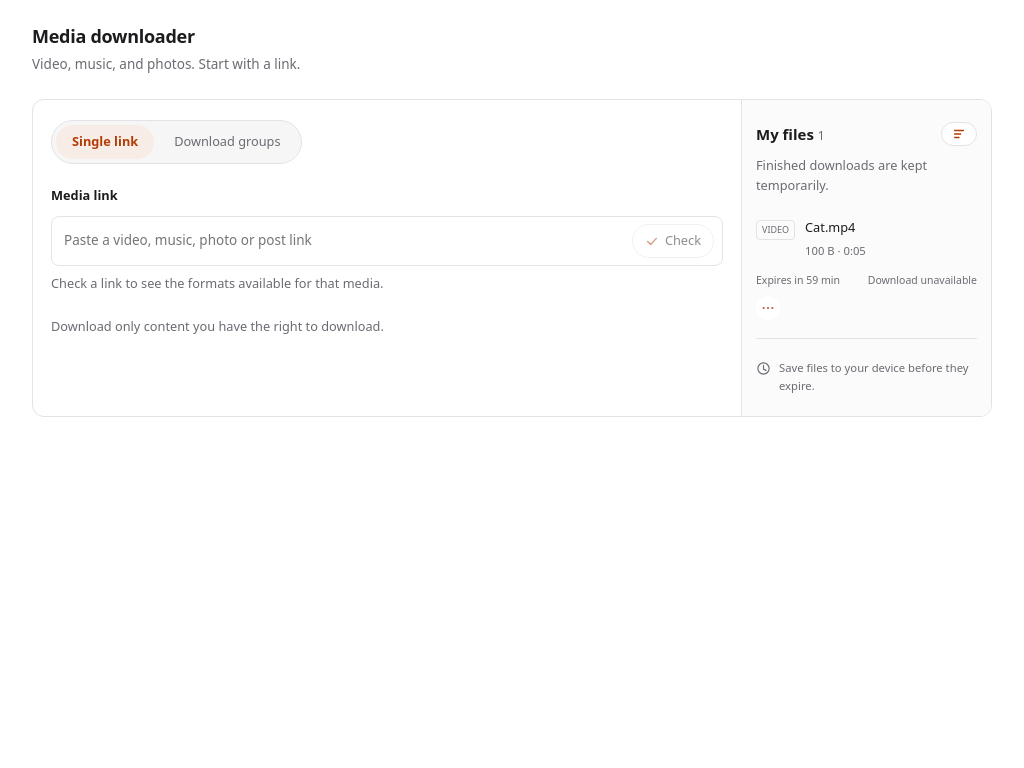
Test: MediaDownloaderView › ports probe details, blocked presets, queued downloads and watcher cleanup
Type "https://example.com/cat" into the field with placeholder "Paste a video, music, photo or post link" at (342, 241), box [64, 226, 620, 255]
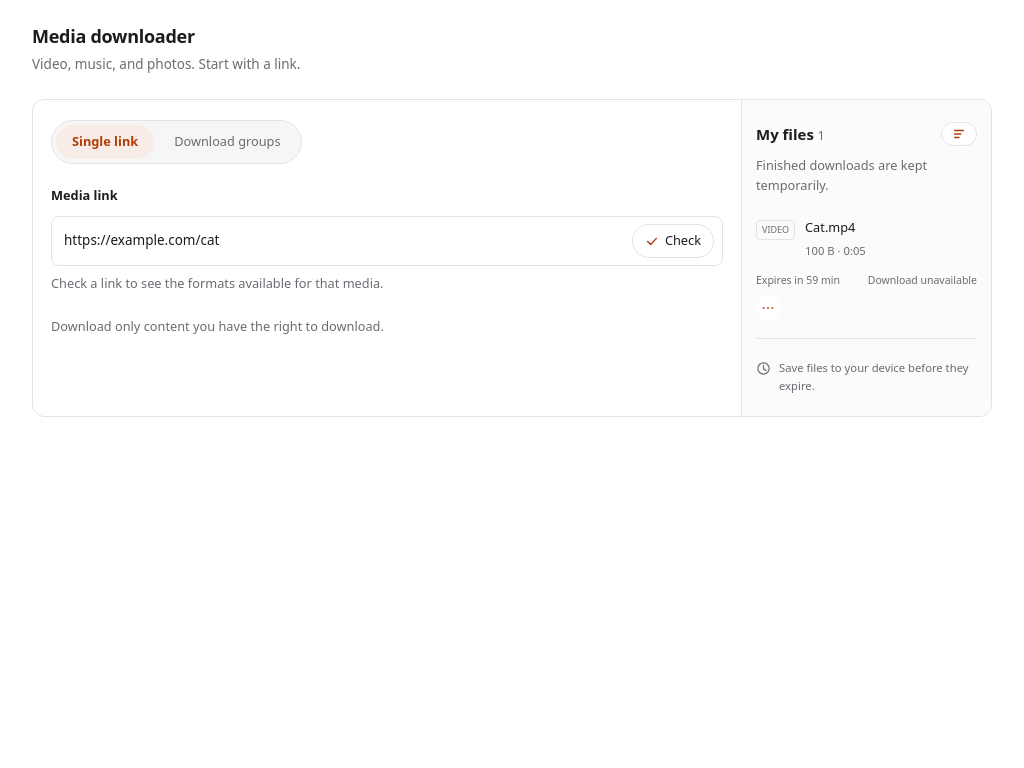
Submit the form, box [51, 216, 723, 266]
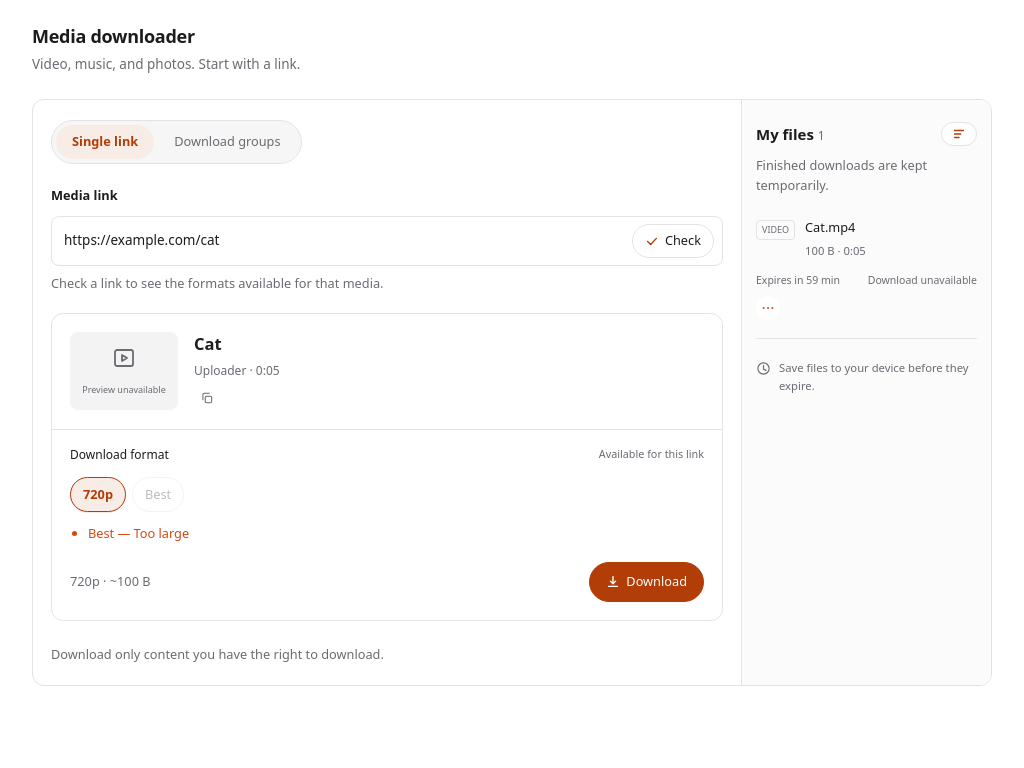
Check: the text "Uploader" is shown, box [194, 362, 246, 379]
Check: the text "Too large" is shown, box [88, 524, 189, 542]
Check: the button "Best" is disabled, box [132, 476, 184, 512]
Click the button "Download" at (647, 582), box [589, 562, 704, 602]
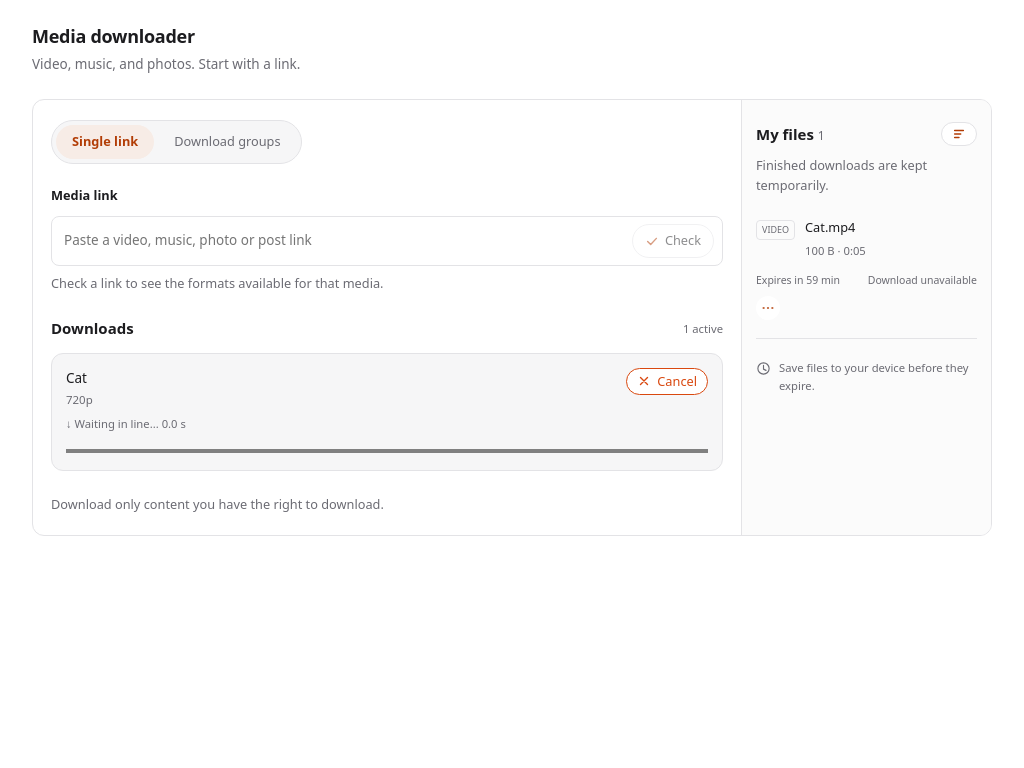
Check: the text "Waiting in line" is shown, box [66, 416, 162, 431]
